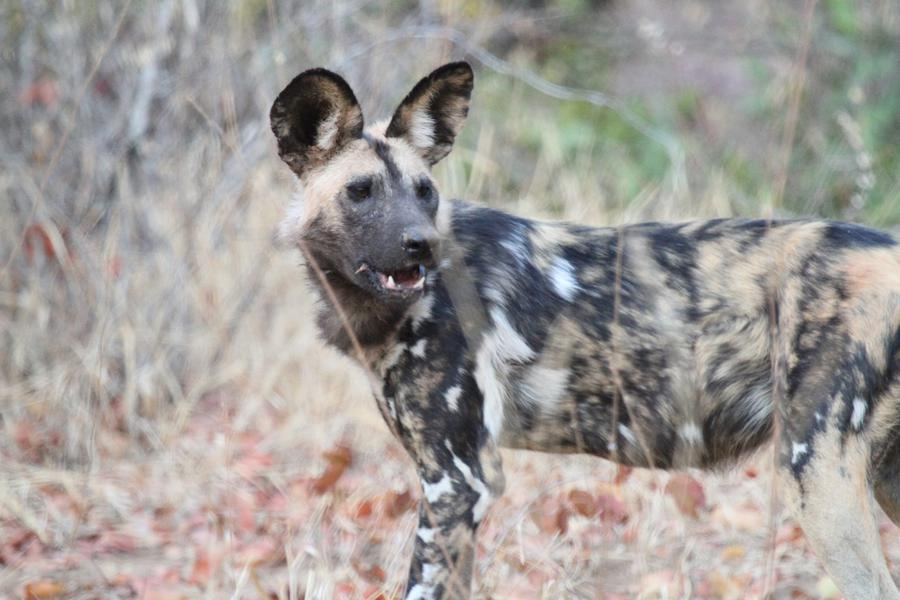wilddog: (254, 50, 882, 486)
